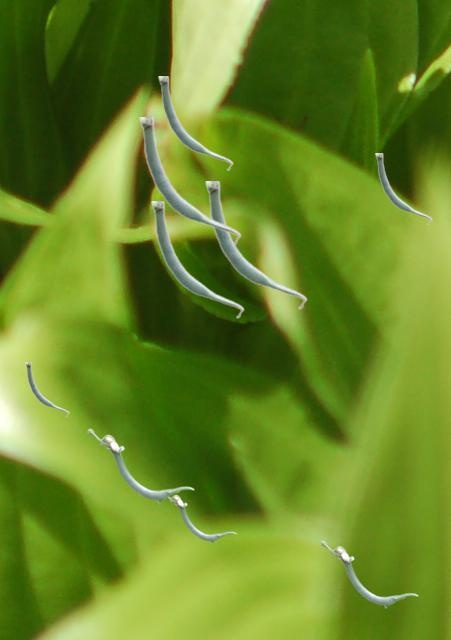french_bean: (205, 181, 306, 309), (139, 117, 240, 245), (151, 201, 243, 318), (87, 428, 193, 502), (158, 76, 232, 170), (320, 540, 417, 607), (375, 153, 431, 224), (168, 494, 235, 542), (25, 362, 68, 416)
